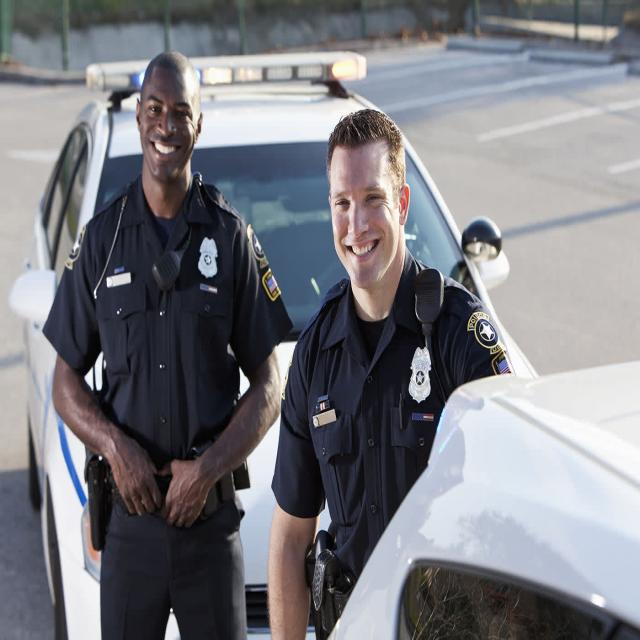police: (50, 34, 284, 640), (288, 69, 492, 640)
